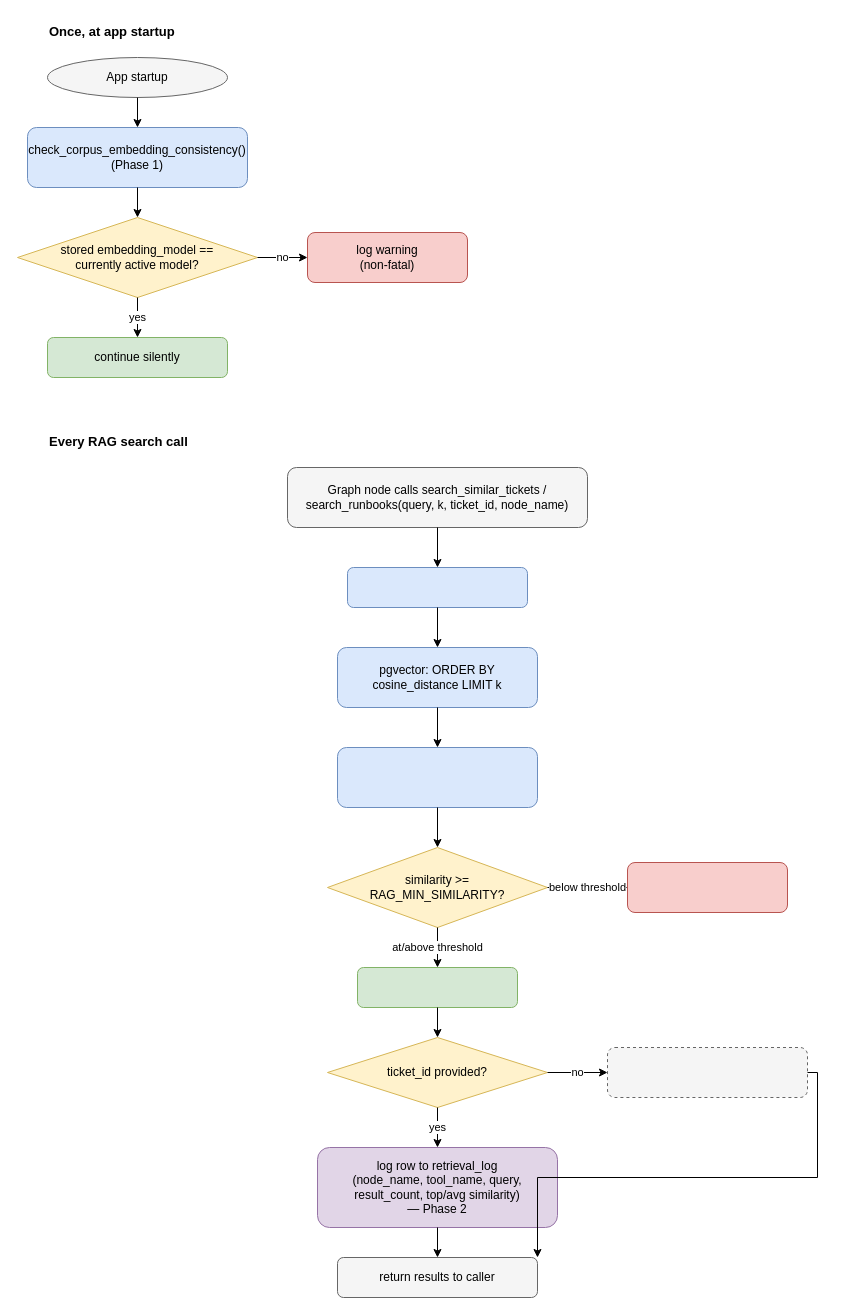
The diagram is 843 pixels wide and 1315 high, and some of its shapes have lost their labels. Each missing label, with the centre of its shape:
"drop this result" goes at (707,887).
"embed_text(query)" goes at (437,587).
"keep result" goes at (437,987).
"similarity = 1 - distance (per row)" goes at (437,777).
"skip logging (e.g. seed.py, eval scripts)" goes at (707,1072).
